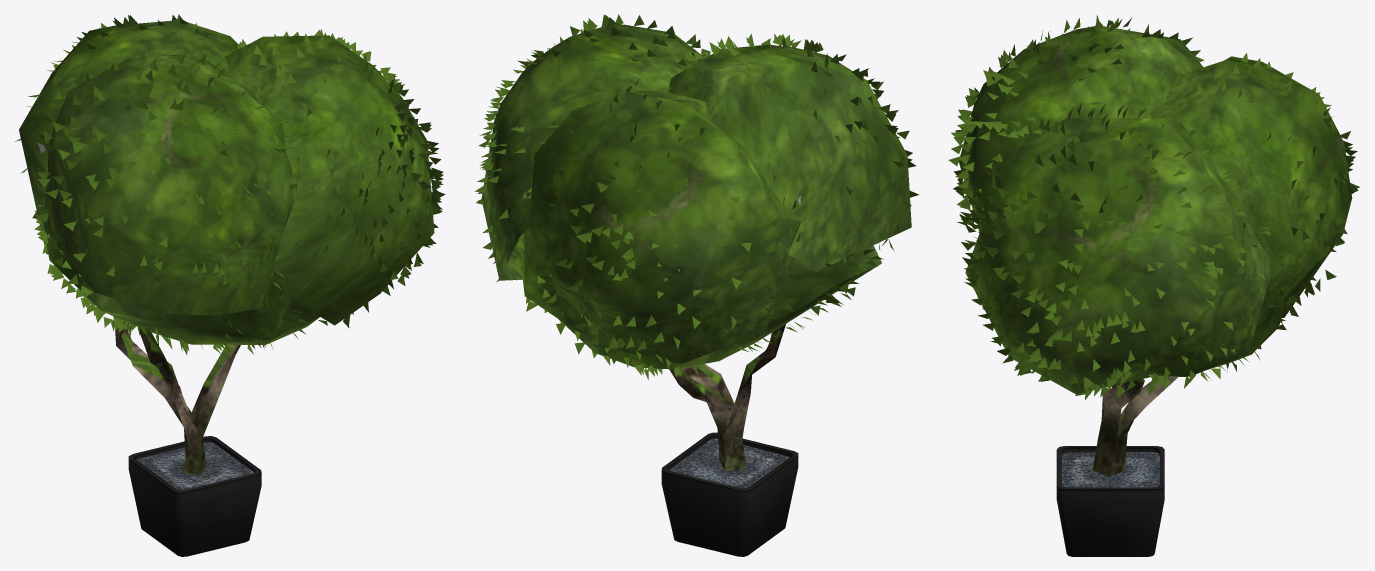
File: VagnusCastus.FBX
The picture shows the model from 3 angles, left to right: view 1: azimuth 30°, elevation 25°; view 2: azimuth 150°, elevation 25°; view 3: azimuth 270°, elevation 25°; orthographic projection. The views are drawn at different scales.
Visible parts, largest first — view 1: VAgnusCastus2Mesh, Pot4Mesh, Soil4; view 2: VAgnusCastus2Mesh, Pot4Mesh, Soil4; view 3: VAgnusCastus2Mesh, Pot4Mesh, Soil4.
Boxes of the visible parts, <box> form: VAgnusCastus2Mesh: <box>15,14,445,475</box>; Pot4Mesh: <box>128,436,261,556</box>; Soil4: <box>136,442,253,490</box>; VAgnusCastus2Mesh: <box>474,14,918,471</box>; Pot4Mesh: <box>661,432,798,556</box>; Soil4: <box>669,438,789,488</box>; VAgnusCastus2Mesh: <box>948,15,1359,476</box>; Pot4Mesh: <box>1056,446,1164,556</box>; Soil4: <box>1061,452,1159,487</box>.
Size of the model in its own units: 59.32 by 71.87 by 53.92.
1 material, 1 textured.
